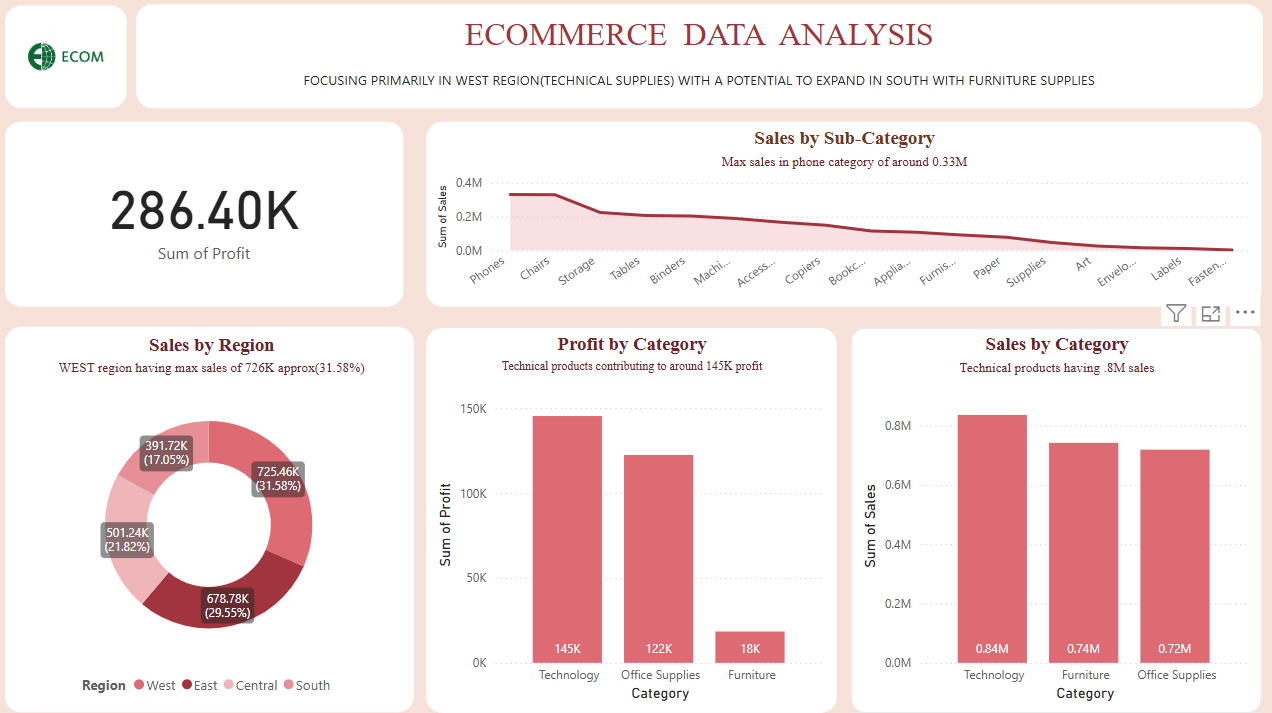

The page's visual inventory and layout, read from the dashboard file:
{"tool":"powerbi","page":{"name":"Page 1","canvas":[1280,720],"ordinal":0},"visuals":[{"type":"textbox","box":[141.2,11.2,1126.2,103.8],"z":0},{"type":"donutChart","title":"Sales by Region","fields":{"Category":["ecom.Region"],"Y":["Sum(ecom.Sales)"]},"box":[10,334.3,408.6,385.7],"z":1000},{"type":"stackedAreaChart","title":"Sales by Sub-Category","fields":{"Category":["ecom.Sub-Category"],"Y":["Sum(ecom.Sales)"]},"box":[431.2,128.8,835,185],"z":2000},{"type":"columnChart","title":"Profit by Category","fields":{"Category":["ecom.Category"],"Y":["Sum(ecom.Profit)"]},"box":[431.2,335,410,385],"z":3000},{"type":"columnChart","title":"Sales by Category","fields":{"Category":["ecom.Category"],"Y":["Sum(ecom.Sales)"]},"box":[856.2,335,410,385],"z":4000},{"type":"card","fields":{"Values":["Sum(ecom.Profit)"]},"box":[10,128.8,398.8,185],"z":5000},{"type":"image","box":[10,12.5,121.2,102.5],"z":6000}]}

Visuals, with their boxes in screenshot pixels (x1, y1, x2, y2), scaled from the page's 1280x720 canvas onto the 1272x713 screenshot:
textbox: 140/11/1259/114
"Sales by Region" donutChart: 10/331/416/712
"Sales by Sub-Category" stackedAreaChart: 429/128/1258/311
"Profit by Category" columnChart: 429/332/836/712
"Sales by Category" columnChart: 851/332/1258/712
card - Sum(ecom.Profit): 10/128/406/311
image: 10/12/130/114
